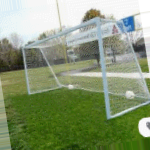goals: (20, 16, 150, 118)
